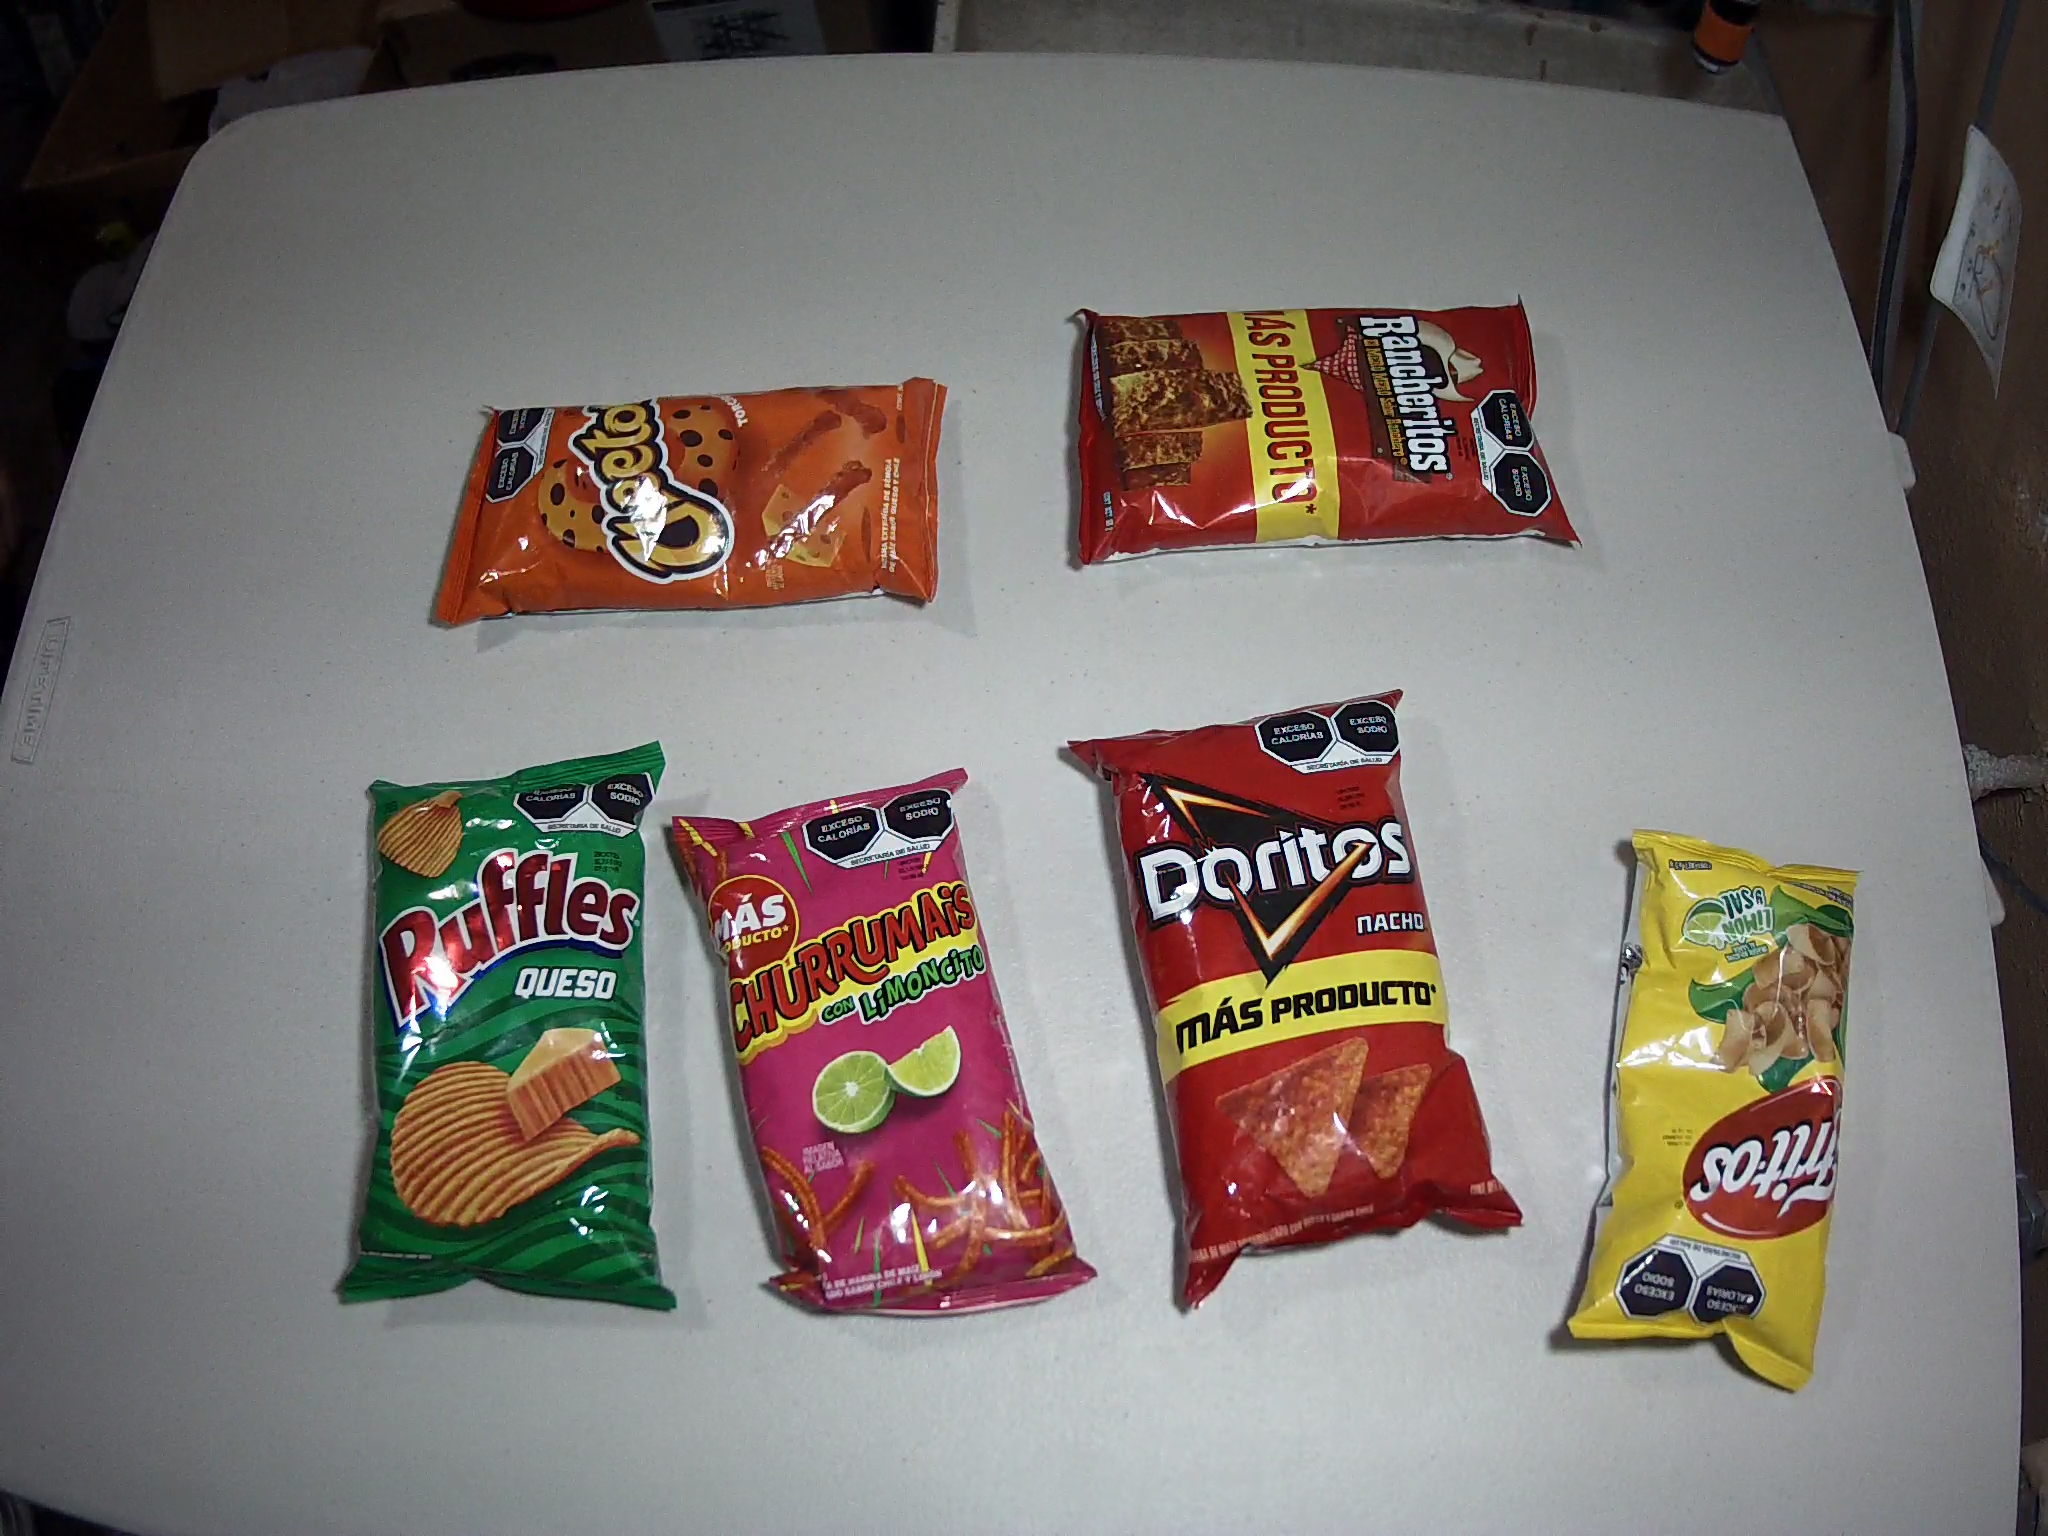CheetosTorciditos_55_F: (432, 373, 948, 631)
Churrumais_70_F: (671, 766, 1100, 1320)
DoritosN_61_F: (1064, 691, 1526, 1310)
FritosSalLimon_65_F: (1563, 831, 1861, 1392)
Rancheritos_58_F: (1068, 292, 1584, 570)
RufflesQ_48_F: (337, 737, 684, 1313)
